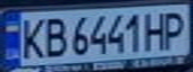1: (121, 10, 145, 52)
4: (87, 11, 109, 55), (106, 10, 127, 54)
6: (66, 12, 90, 56)
B: (39, 15, 69, 58)
H: (142, 8, 172, 52)
K: (15, 15, 48, 61)
P: (157, 8, 193, 51)
